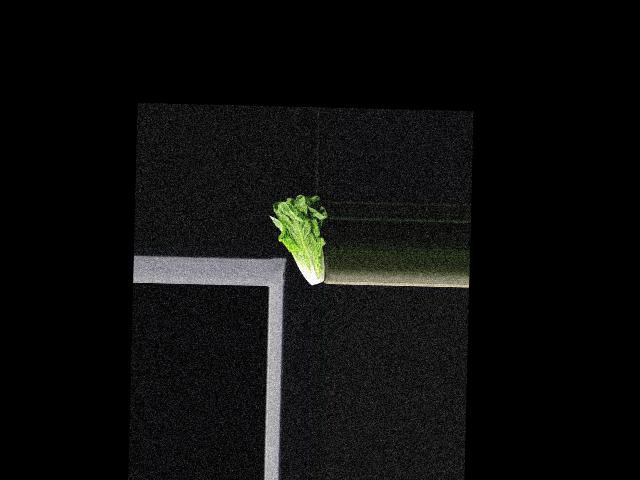lettuce: (268, 192, 328, 286)
